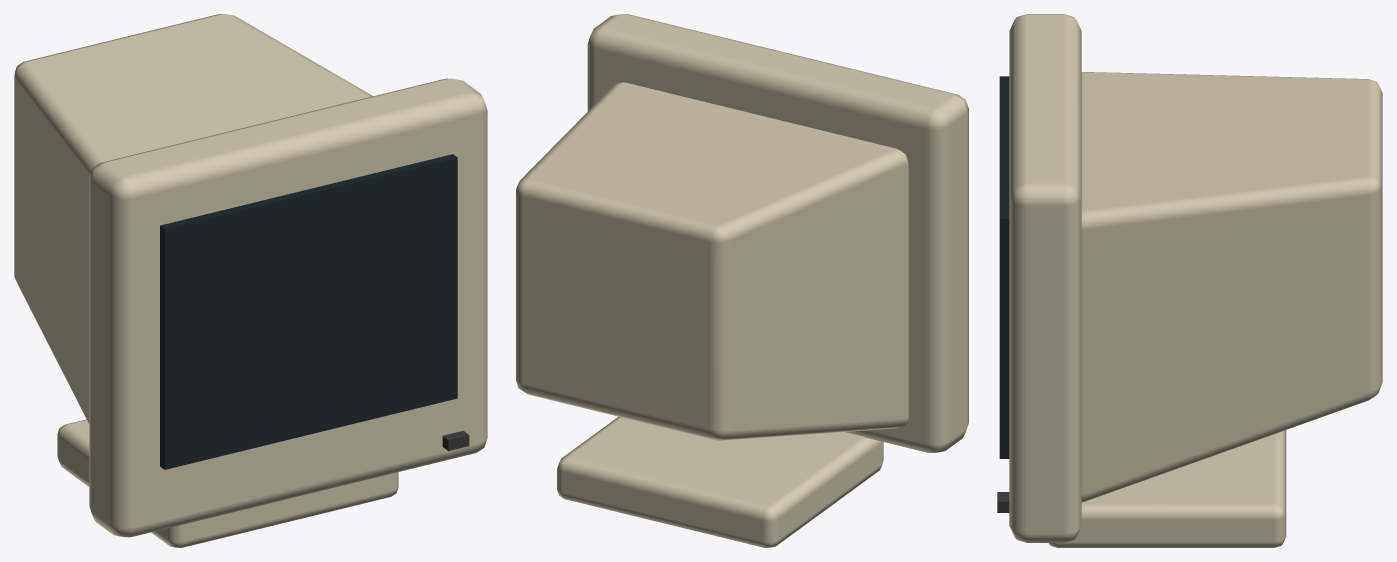
Rendered from crt_monitor.glb.
3 views of the same model, side by side, from view 1: azimuth 30°, elevation 25°; view 2: azimuth 150°, elevation 25°; view 3: azimuth 270°, elevation 25° (orthographic). The views are drawn at different scales.
Visible parts, largest first — view 1: crt_monitor; view 2: crt_monitor; view 3: crt_monitor.
Part boxes in pixels (x1,y1,x2,y2): crt_monitor: (14, 14, 487, 547); crt_monitor: (516, 14, 968, 547); crt_monitor: (997, 14, 1382, 547).
Bounding box in the file's own units: 0.36 × 0.365 × 0.32.
